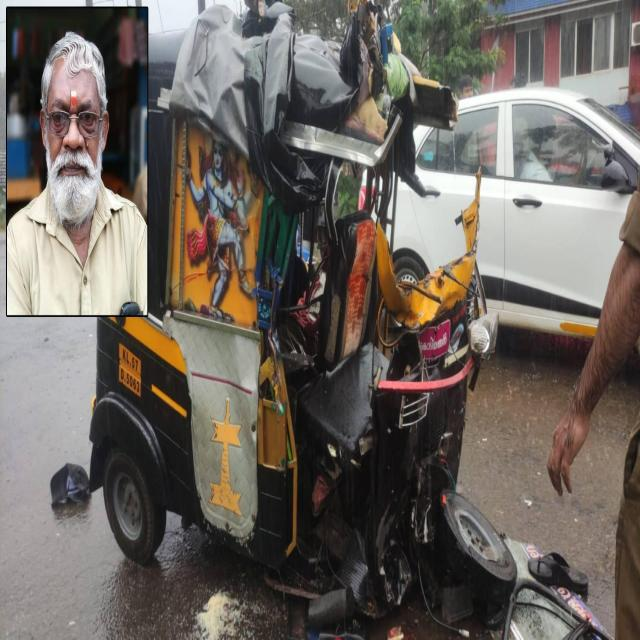autorickshaw: (90, 0, 519, 629)
car: (394, 87, 640, 337)
